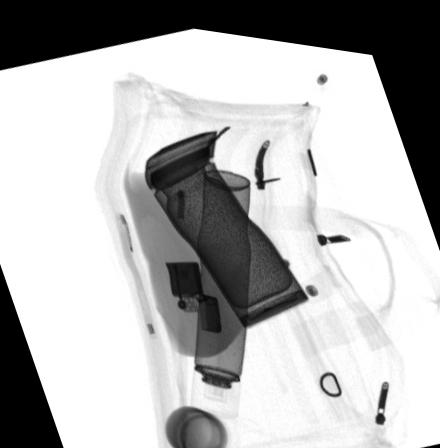Lighter: (163, 256, 221, 327)
Sprayer: (190, 163, 250, 414)
